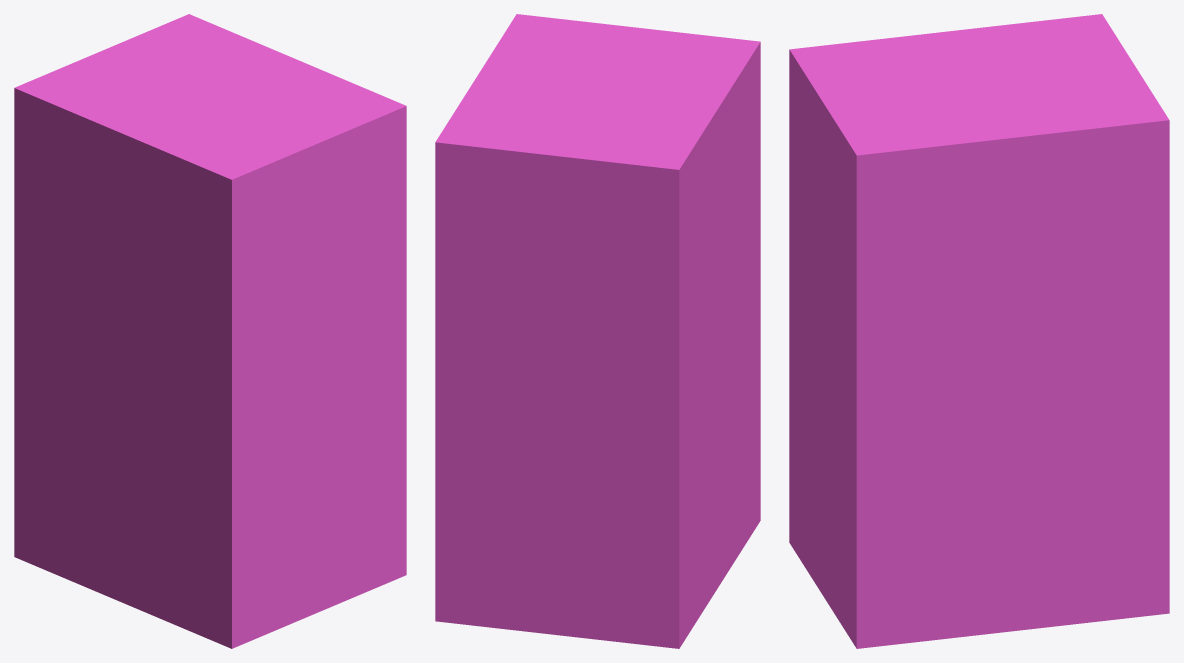
The picture shows the model from 3 angles, left to right: view 1: azimuth 30°, elevation 25°; view 2: azimuth 150°, elevation 25°; view 3: azimuth 270°, elevation 25°; orthographic projection. The views are drawn at different scales.
Parts seen in each view (by area): view 1: 1022; view 2: 1022; view 3: 1022.
Part boxes in pixels (left/top/right/bottom): 1022: left=14, top=14, right=406, bottom=648; 1022: left=435, top=14, right=760, bottom=648; 1022: left=789, top=14, right=1169, bottom=648.
Size of the model in its own units: 3.69 by 6 by 4.19.
